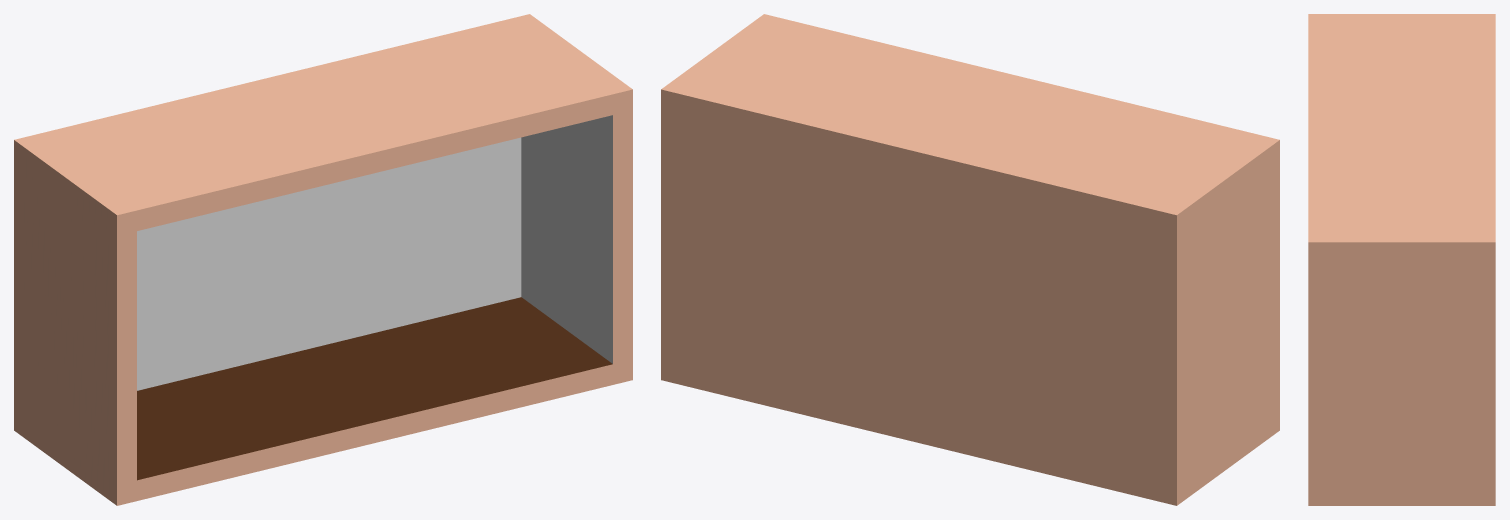
File: mshLaboratoySegmentEntrance.fbx
3 renders of one model, left to right at view 1: azimuth 30°, elevation 25°; view 2: azimuth 150°, elevation 25°; view 3: azimuth 270°, elevation 25°, orthographic. The views are drawn at different scales.
Parts seen in each view (by area): view 1: EntranceWallFront, EntranceCeiling, EntranceFloor, EntranceWallRight, EntranceWallLeft; view 2: EntranceWallFront, EntranceCeiling, EntranceWallRight, EntranceWallLeft; view 3: EntranceWallLeft, EntranceCeiling, EntranceWallFront, EntranceWallRight.
Part boxes in pixels (bbox=[...]): EntranceWallFront: bbox=[14, 14, 540, 438]; EntranceCeiling: bbox=[45, 27, 612, 230]; EntranceFloor: bbox=[137, 297, 612, 500]; EntranceWallRight: bbox=[25, 143, 136, 505]; EntranceWallLeft: bbox=[521, 22, 632, 384]; EntranceWallFront: bbox=[661, 81, 1188, 505]; EntranceCeiling: bbox=[692, 19, 1259, 201]; EntranceWallRight: bbox=[1169, 135, 1279, 497]; EntranceWallLeft: bbox=[673, 14, 783, 85]; EntranceWallLeft: bbox=[1308, 233, 1474, 505]; EntranceCeiling: bbox=[1308, 22, 1474, 233]; EntranceWallFront: bbox=[1474, 14, 1495, 505]; EntranceWallRight: bbox=[1308, 14, 1474, 22].
Bounding box in the file's own units: 1300 × 700 × 450.
